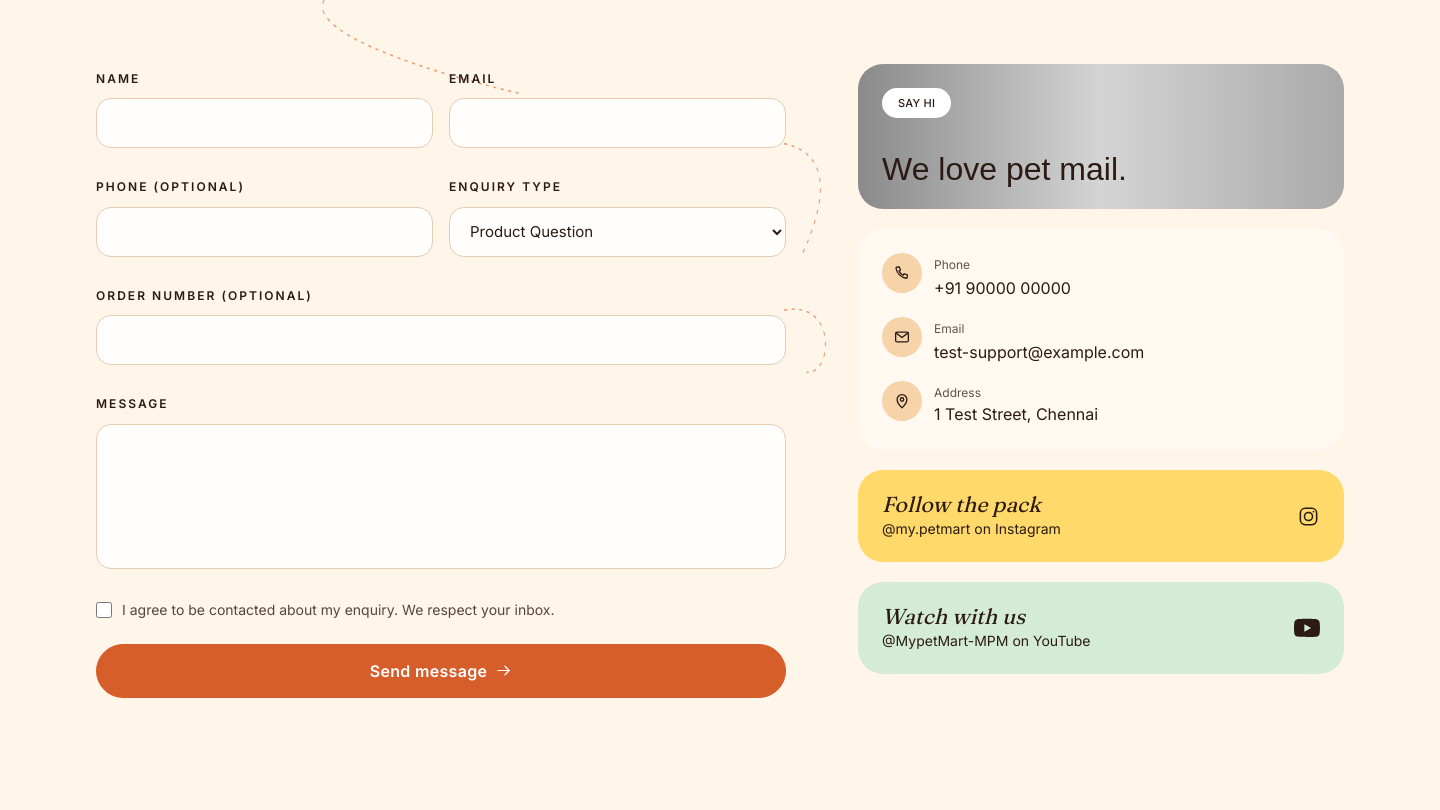
Test: ContactFormSection › shows the success confirmation with the enquiry reference and resets the form
Type "Priya Sharma" into the field labelled "Name".
click(264, 123); type("Priya Sharma")  # box left=96, top=98, right=433, bottom=148
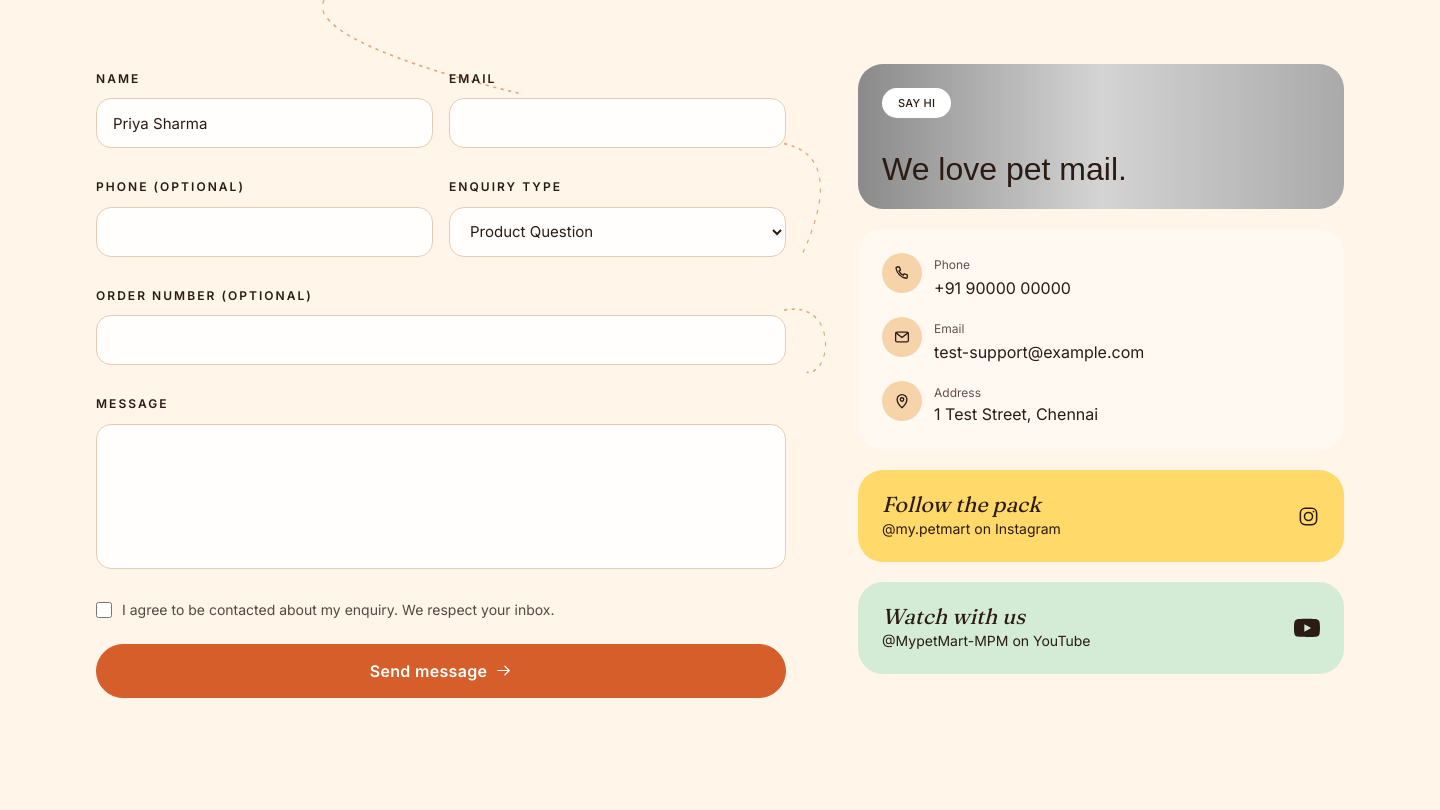
Type "priya@example.com" into the field labelled "Email".
click(618, 123); type("priya@example.com")  # box left=449, top=98, right=786, bottom=148
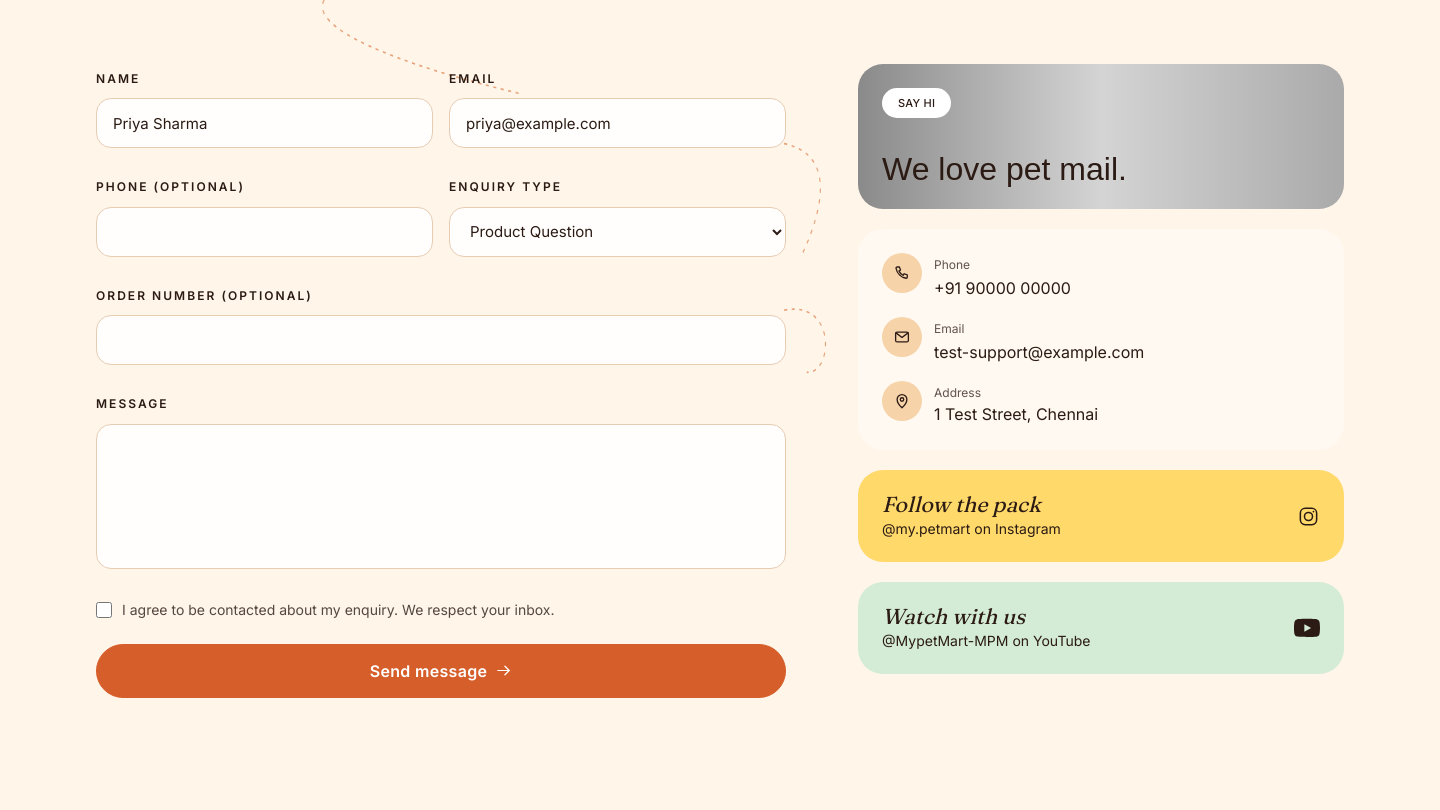
Type "Does this shampoo work for cats?" into the text box labelled "Message".
click(441, 496); type("Does this shampoo work for cats?")  # box left=96, top=424, right=786, bottom=569
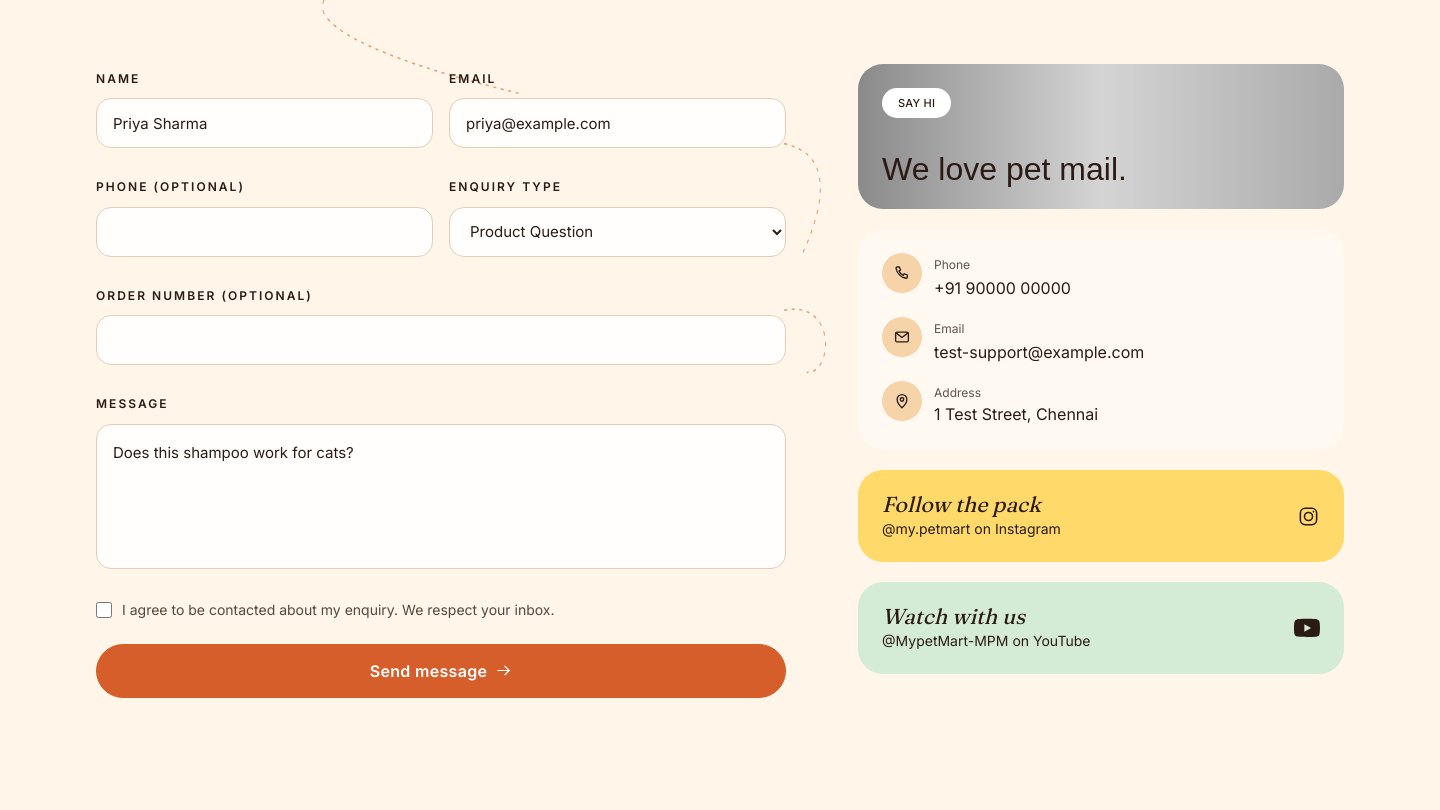
Click the checkbox labelled "I agree to be contacted".
click(104, 610)  # box left=96, top=602, right=112, bottom=618
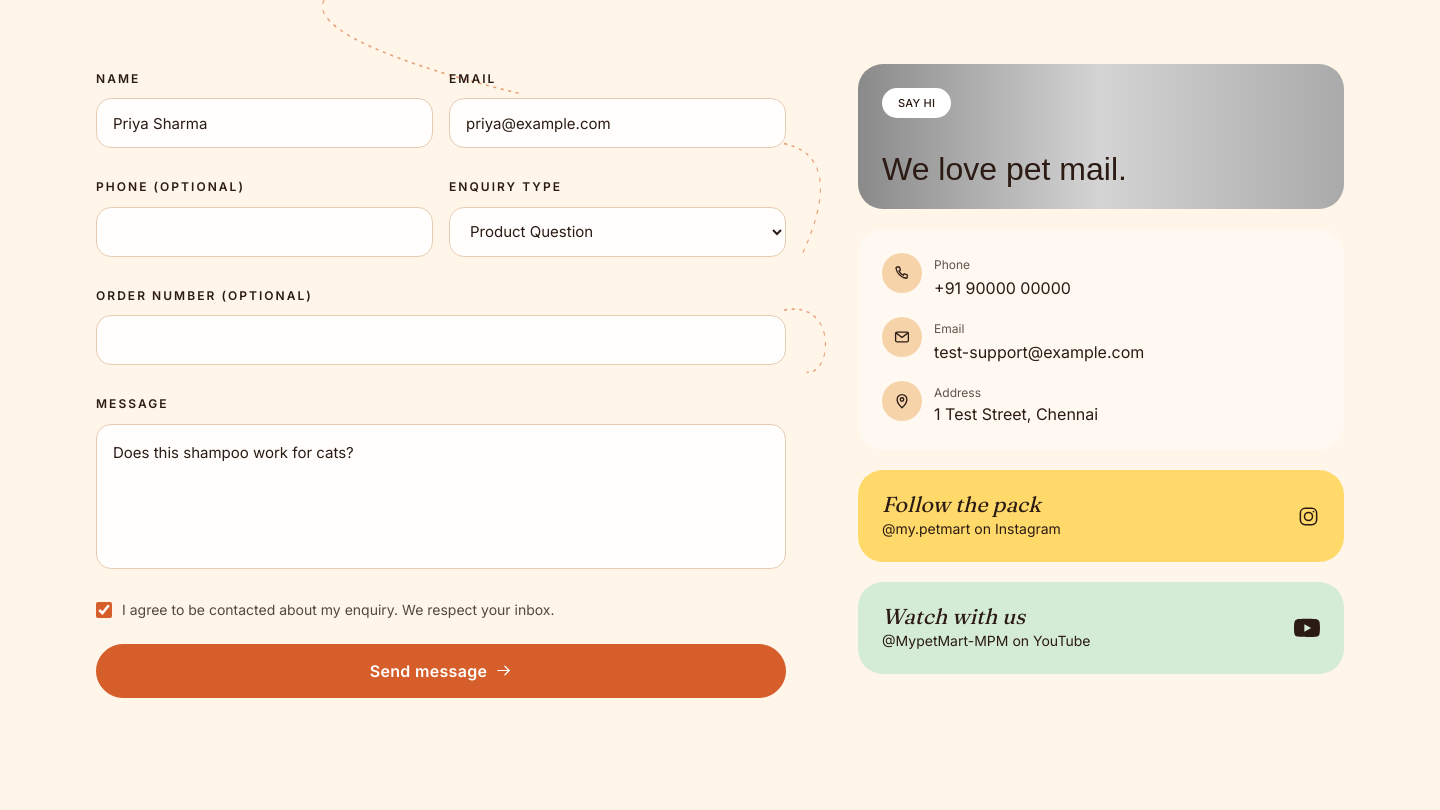
Click the button "Send message".
click(441, 671)  # box left=96, top=644, right=786, bottom=698
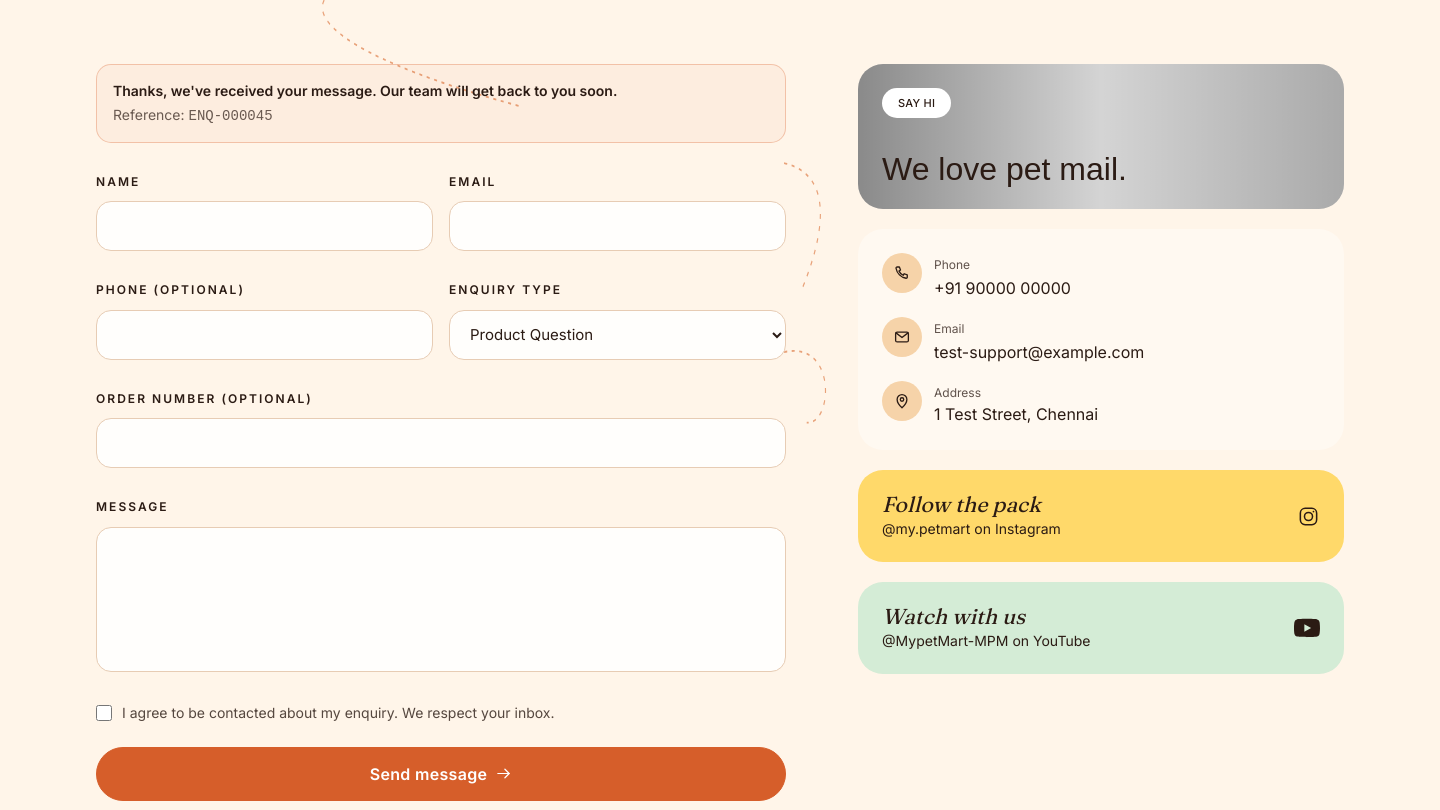
Expected: the text "Thanks, we've received your message" is shown, left=113, top=82, right=617, bottom=99
Expected: the text "ENQ-000045" is shown, left=188, top=108, right=272, bottom=124
Expected: the field labelled "Name" is empty, left=96, top=201, right=433, bottom=251
